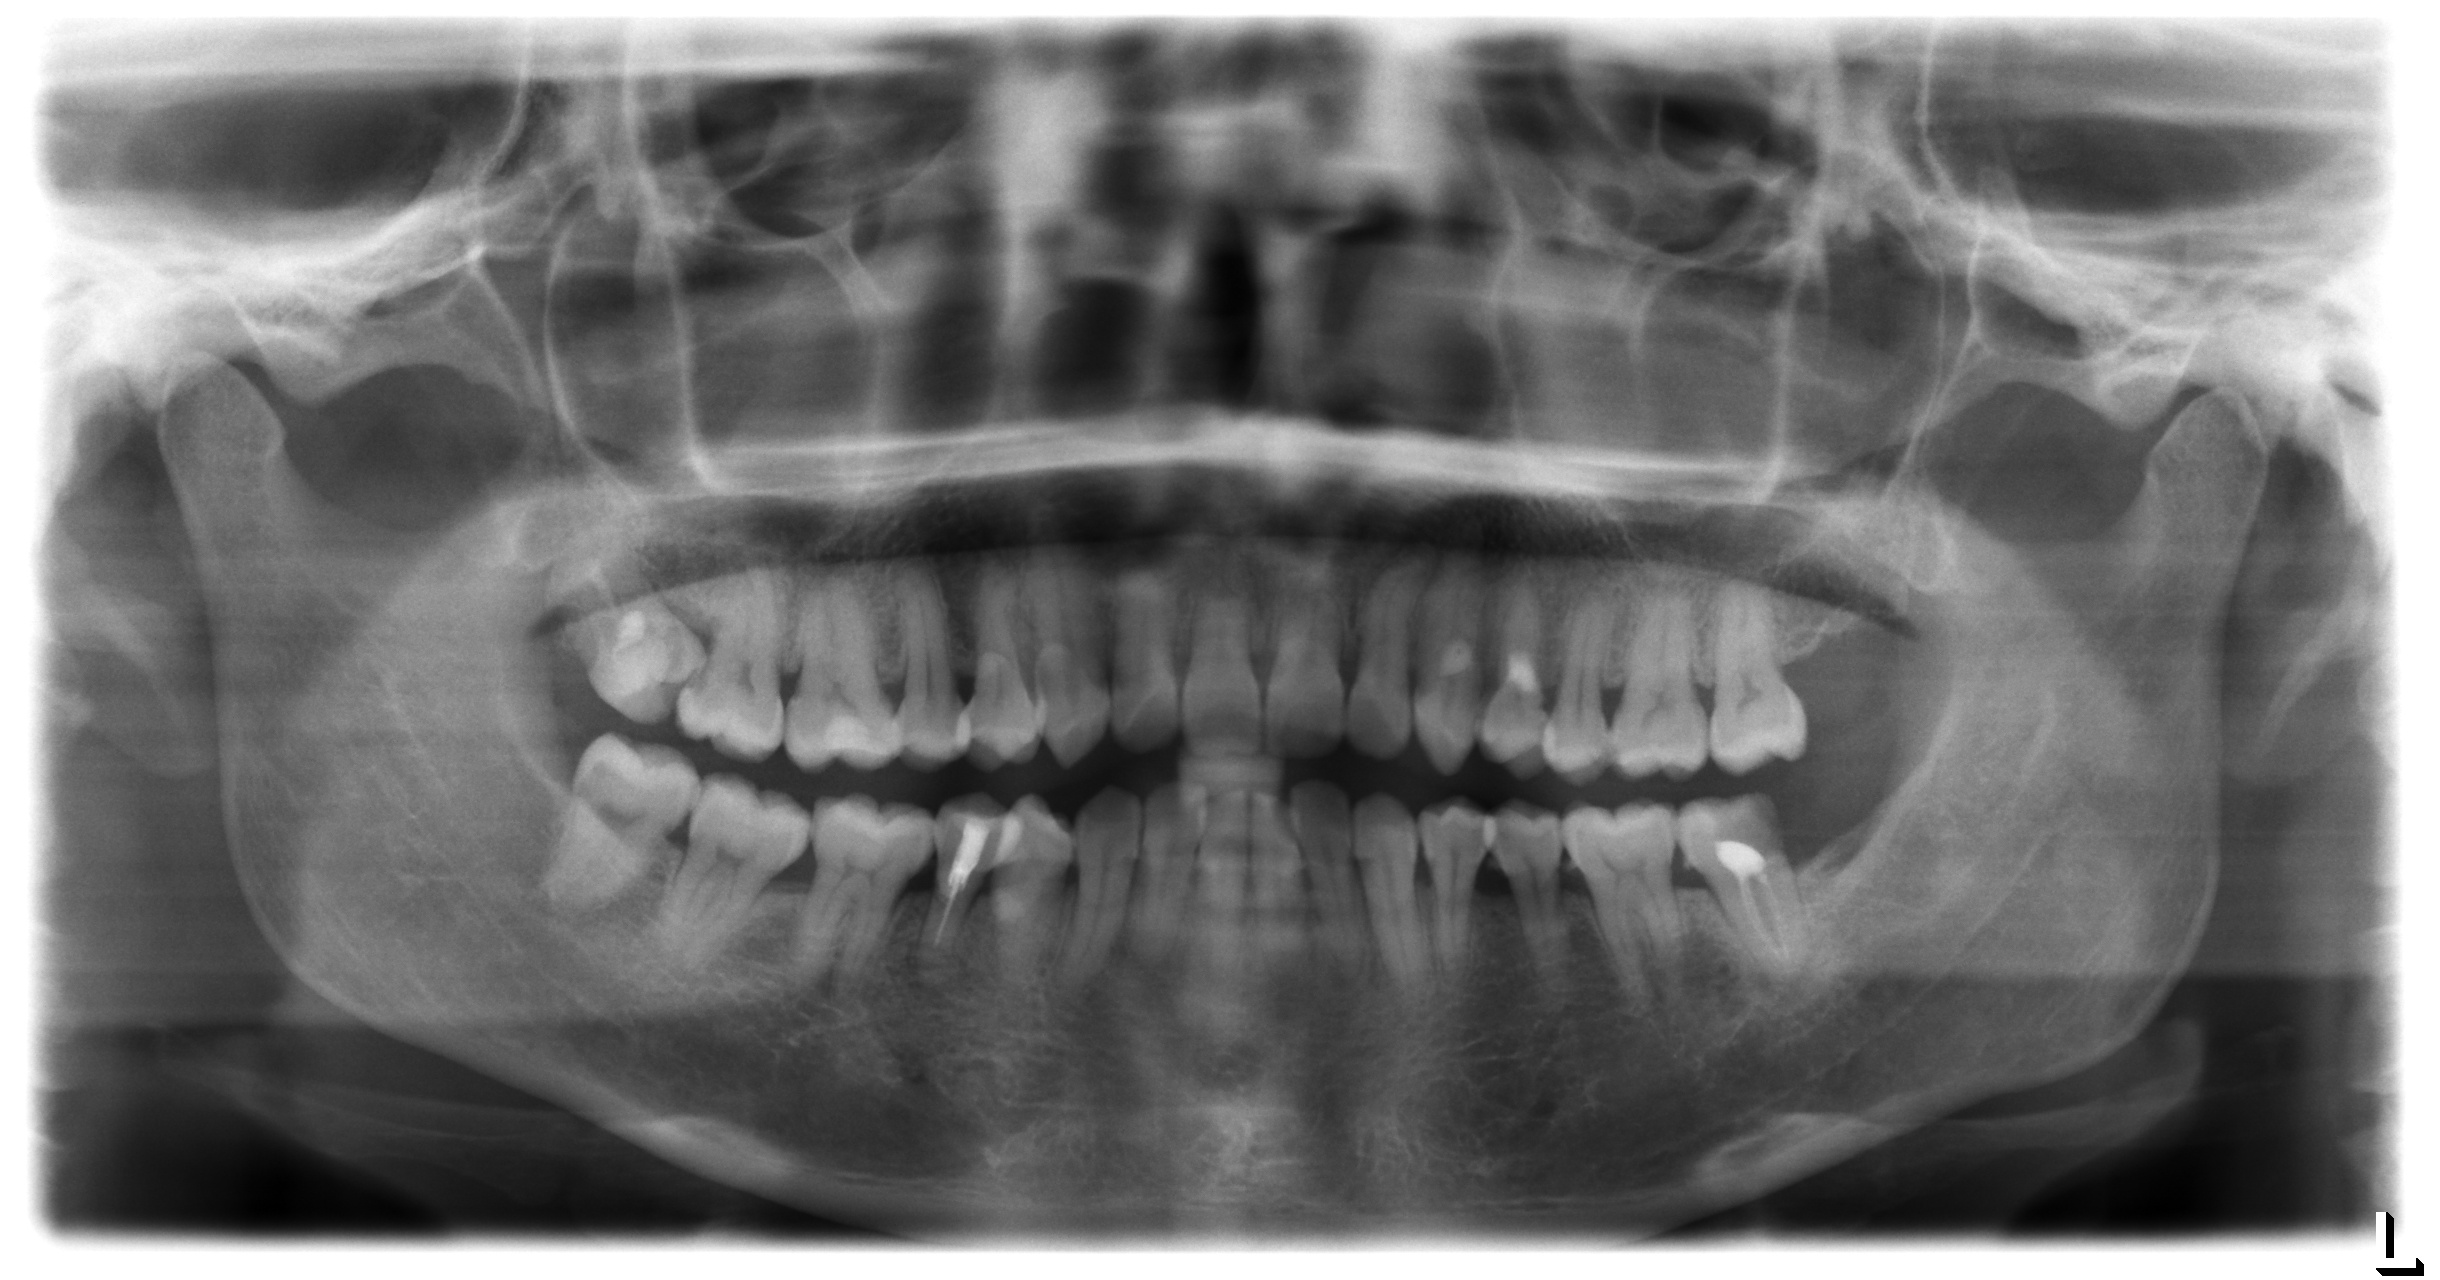Decay: (1701, 786, 1794, 868)
